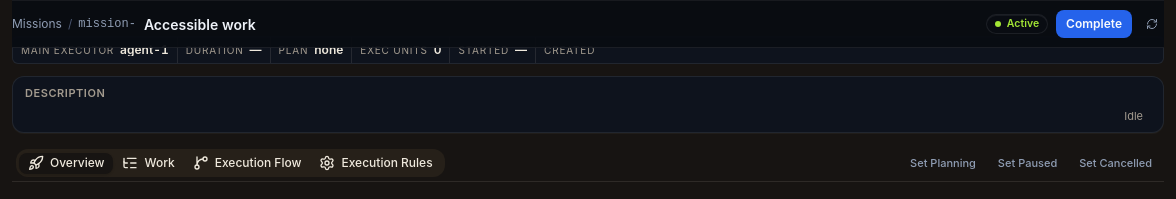
it: detail page accessibility and keyboard navigation › keeps the mission refresh action named and announces mission load failures
The width and height of the screenshot is (1176, 199).
Click the button named "Refresh mission detail".
click(1152, 24)  # box x1=1140 y1=12 x2=1164 y2=36
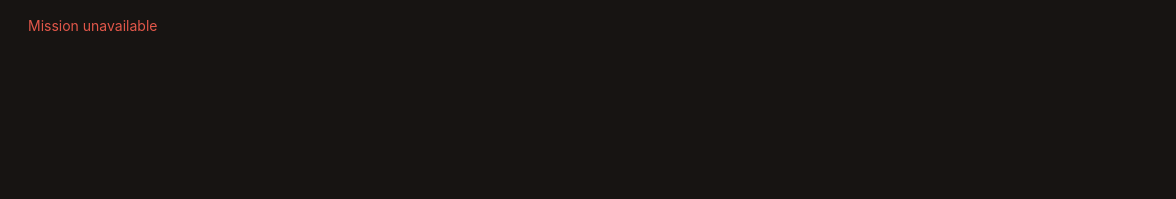
Expected: the message "Mission unavailable" is shown, x1=28 y1=17 x2=158 y2=34
